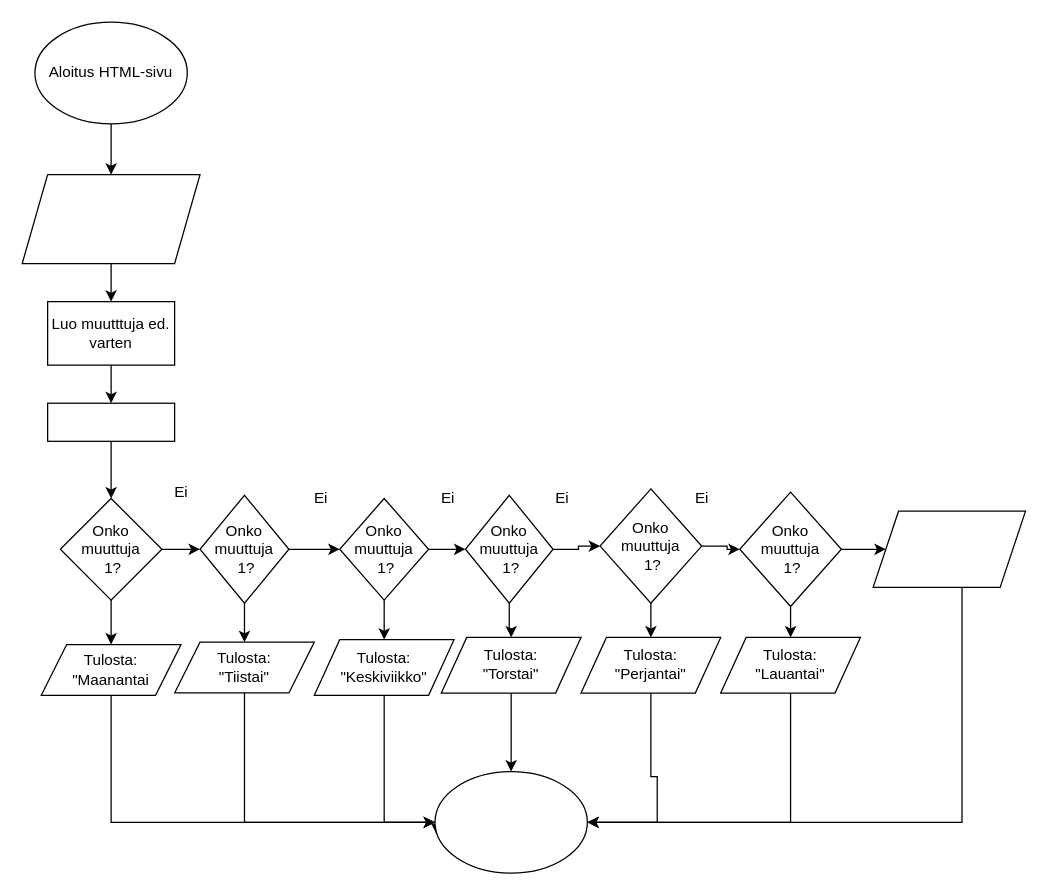
The diagram is 1048 pixels wide and 895 high, and some of its shapes have lost their labels. The box of each missing label's shape, as (x1, y1, x2, y2) in pixels:
Lue nro muuttujaan: (46, 402, 175, 441)
Pyydä käyttäjältä viikonpäivän numeron: (21, 173, 200, 264)
The End: (434, 770, 587, 873)
Tulosta: "Sunnuntai": (872, 510, 1026, 587)
